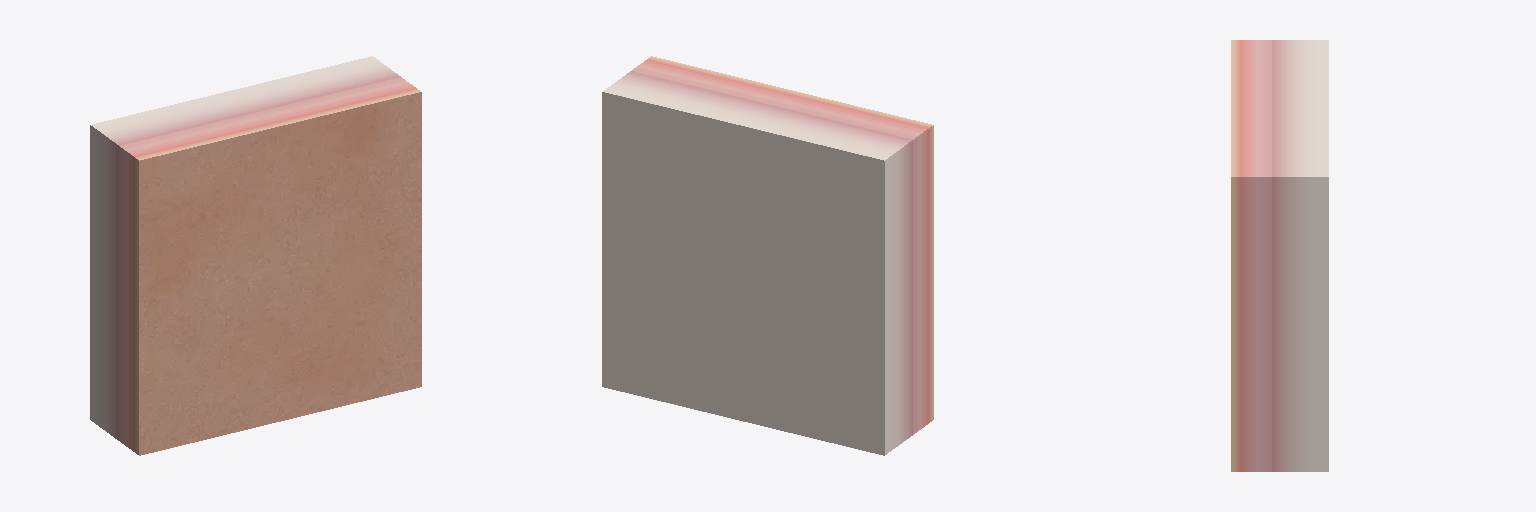
3 renders of one model, left to right at view 1: azimuth 30°, elevation 25°; view 2: azimuth 150°, elevation 25°; view 3: azimuth 270°, elevation 25°, orthographic.
Parts seen in each view (by area): view 1: mesh.skin; view 2: mesh.skin; view 3: mesh.skin.
Boxes of the visible parts, x1,y1,x2,y2 form: mesh.skin: [90, 56, 421, 455]; mesh.skin: [602, 56, 933, 455]; mesh.skin: [1231, 40, 1328, 471].
Size of the model in its own units: 100 by 100 by 30.
3 materials, 3 textured.